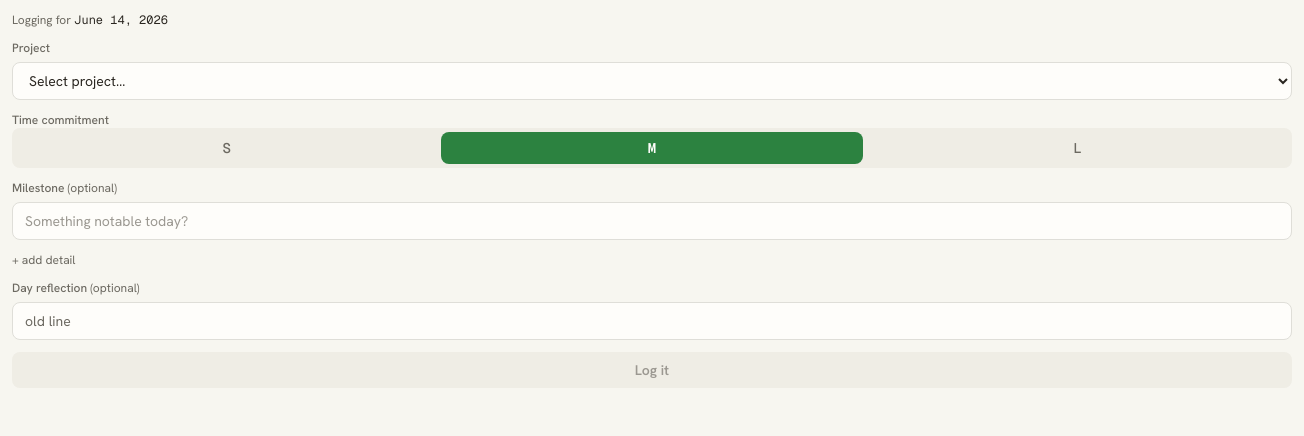
Test: quick add › edits a past day's reflection without logging an entry
Step 1. Replace the text in the field labelled "Day reflection (optional)" with "fixed the streak math" → coordinates (652, 321), box [12, 302, 1292, 340]
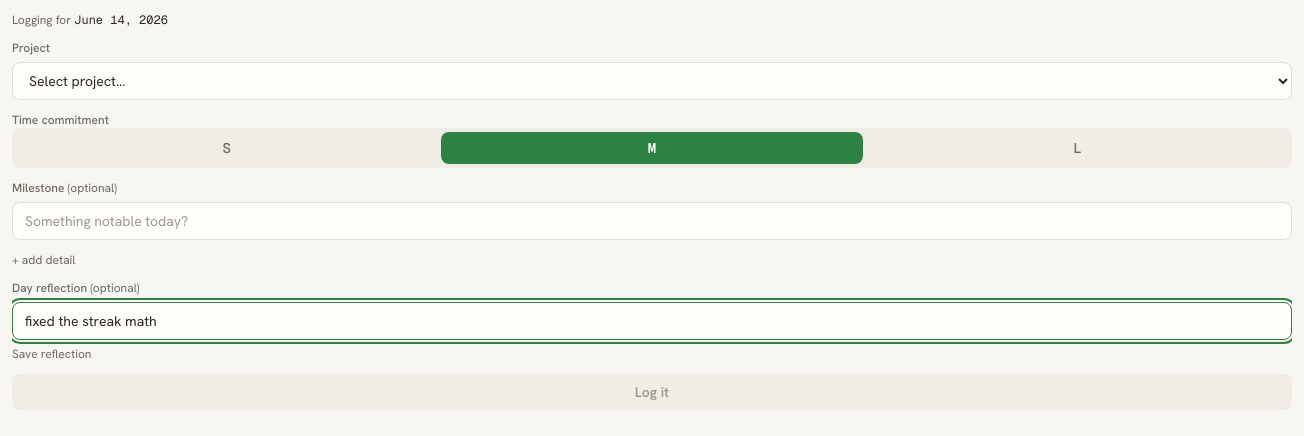
Step 2. Click the button "Save reflection" → coordinates (52, 354), box [12, 346, 91, 362]
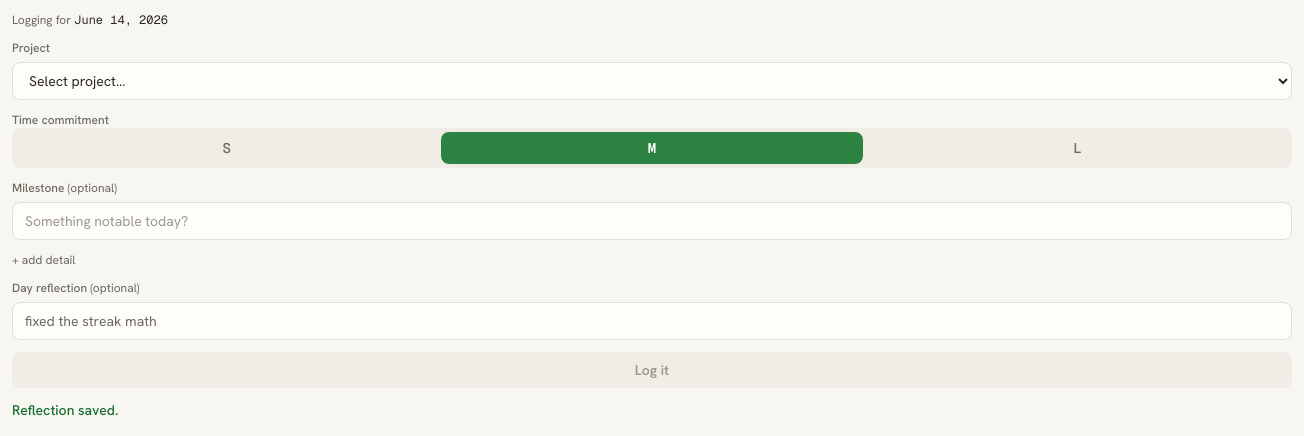
Check: the text "Reflection saved." is shown, box [12, 401, 118, 419]
Check: the button "Save reflection" is gone
